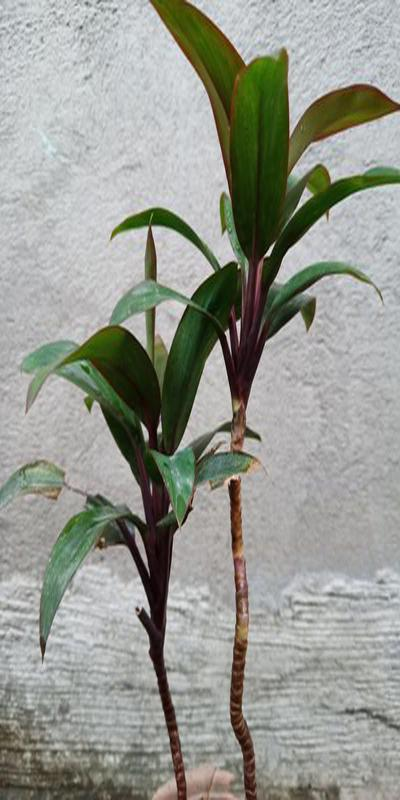Baston de san jose: (157, 17, 361, 769), (42, 274, 222, 794)
